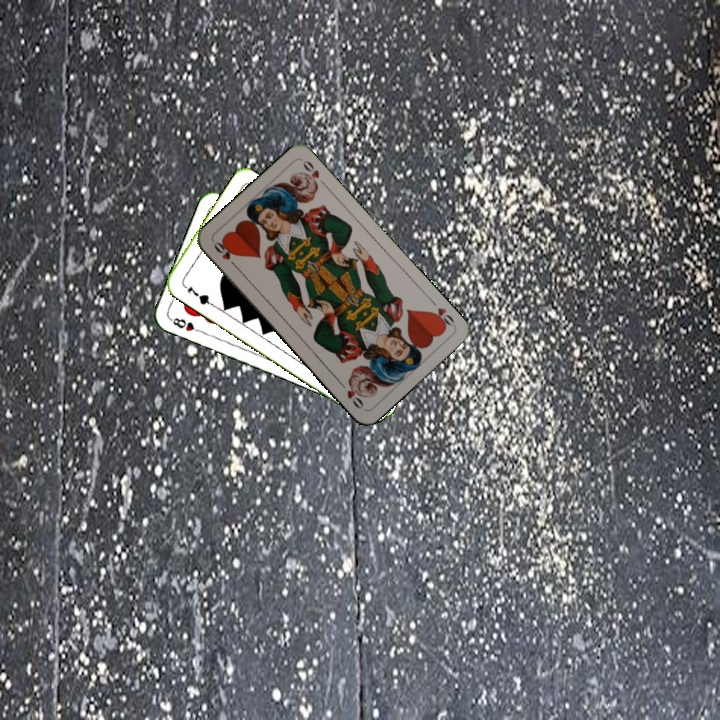G7: (179, 280, 215, 308)
H8: (166, 314, 205, 335)
HO: (426, 295, 457, 332), (210, 237, 240, 271)
